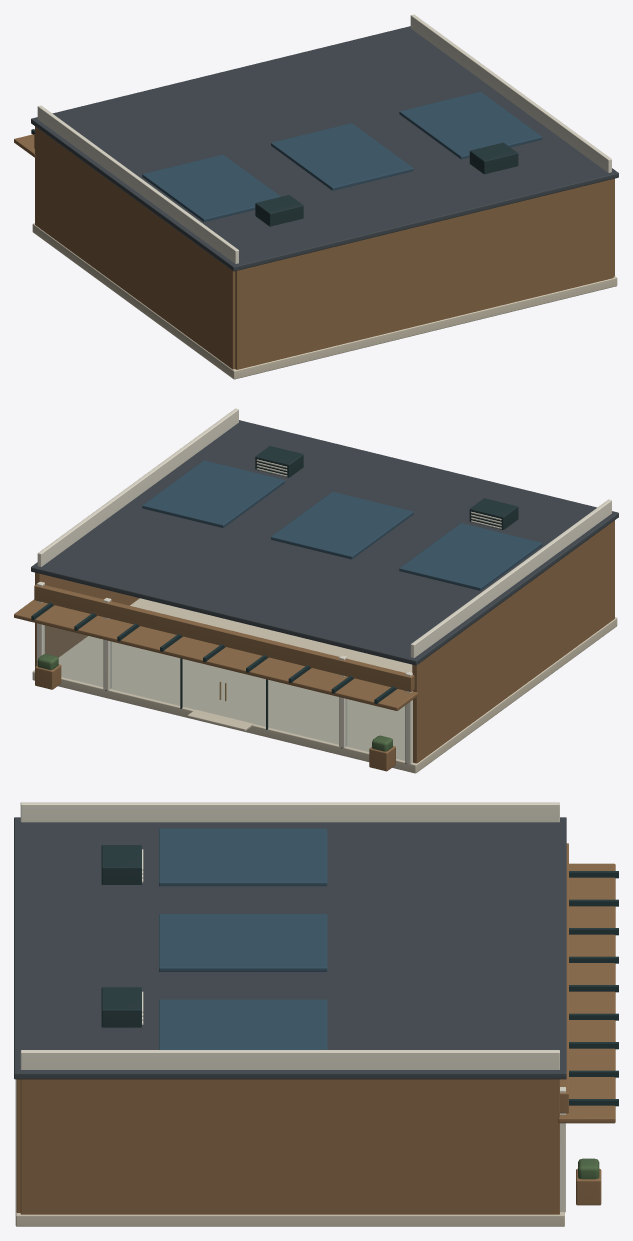
Rendered from timberMarket.glb.
The picture shows the model from 3 angles, top to bottom: view 1: azimuth 30°, elevation 25°; view 2: azimuth 150°, elevation 25°; view 3: azimuth 270°, elevation 25°; orthographic projection. The views are drawn at different scales.
Visible parts, largest first — view 1: Cedar timber, Slate roof, Solar panels, Ivory trim, Limestone, Dark metal; view 2: Slate roof, Cedar timber, Limestone, Solar panels, Clear storefront glazing, Ivory trim, Dark metal, Planter leaves; view 3: Slate roof, Cedar timber, Solar panels, Ivory trim, Limestone, Dark metal.
Part boxes in pixels (x1,y1,x2,y2): Cedar timber: (14,126,614,369); Slate roof: (31,26,618,271); Solar panels: (142,91,542,221); Ivory trim: (37,14,611,263); Limestone: (32,223,617,379); Dark metal: (31,129,518,226); Slate roof: (31,420,618,665); Cedar timber: (14,520,614,771); Limestone: (32,598,617,773); Solar panels: (142,460,542,590); Clear storefront glazing: (44,625,404,760); Ivory trim: (37,408,611,764); Dark metal: (31,446,518,763); Planter leaves: (37,654,392,751); Slate roof: (14,817,566,1079); Cedar timber: (16,843,615,1214); Solar panels: (159,828,327,1049); Ivory trim: (20,802,565,1212); Limestone: (15,1079,564,1226); Dark metal: (101,845,618,1106).
Size of the model in its own units: 18 by 5.65 by 17.95.
